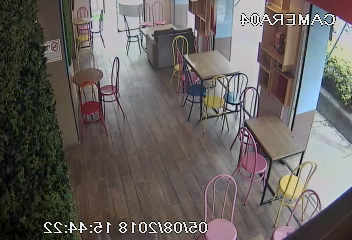libre: (229, 90, 332, 224), (163, 31, 256, 126), (60, 45, 134, 129), (68, 1, 108, 52)
